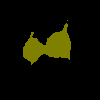reggiseno: (23, 19, 71, 65)
